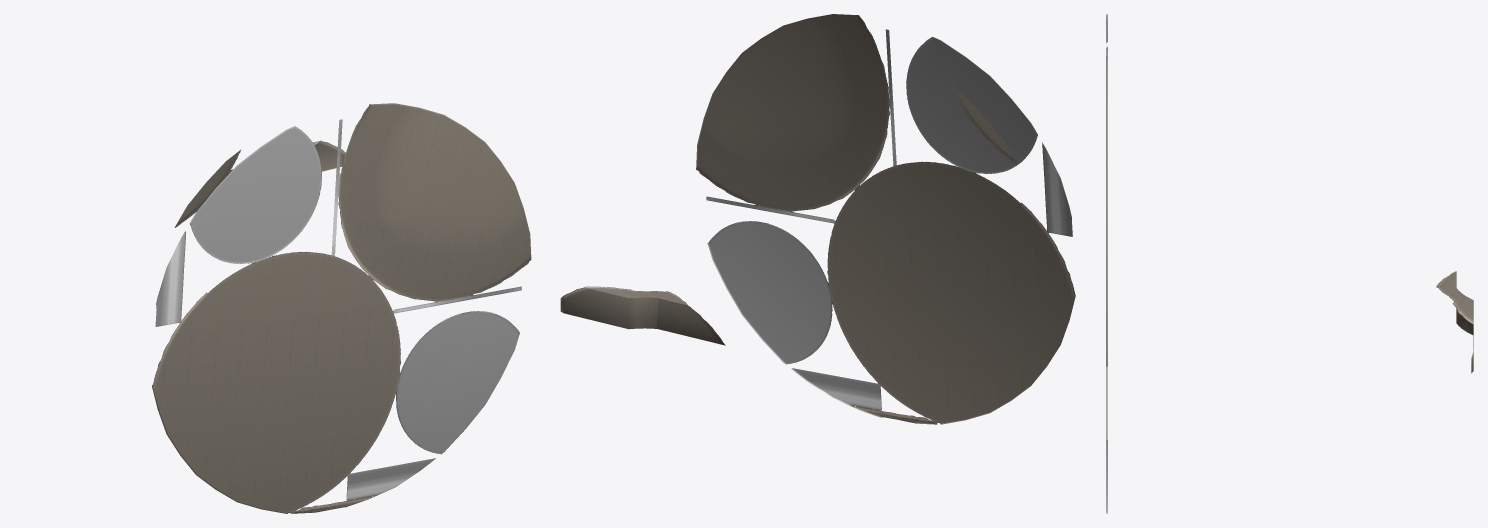
3 renders of one model, left to right at view 1: azimuth 30°, elevation 25°; view 2: azimuth 150°, elevation 25°; view 3: azimuth 270°, elevation 25°, orthographic. The views are drawn at different scales.
Bounding box in the file's own units: 0.6797 × 0.6823 × 0.4989.
